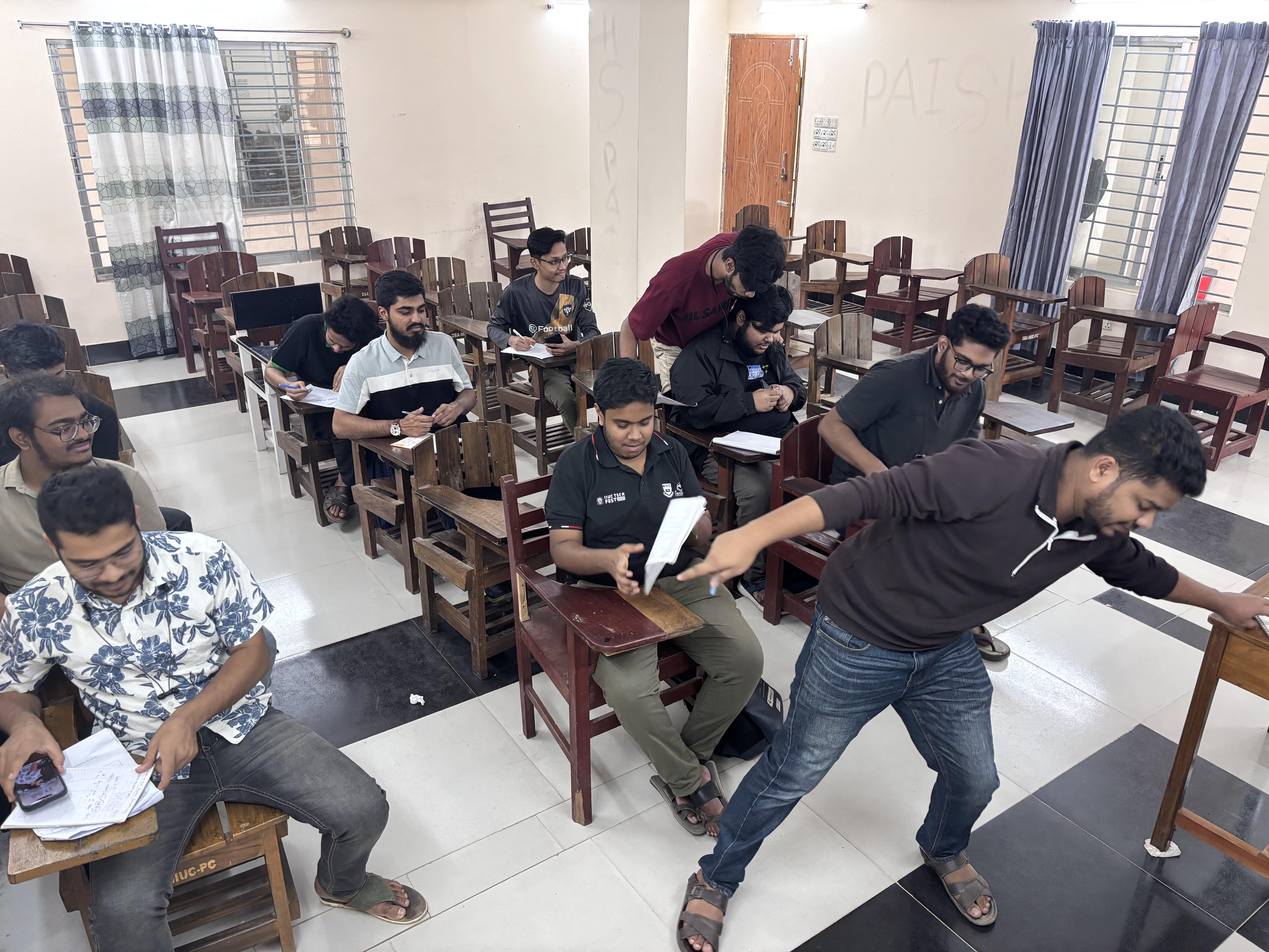copying: (638, 209, 811, 461)
no_cheating: (554, 360, 721, 627), (349, 266, 467, 464), (885, 301, 1015, 476), (0, 370, 148, 487), (263, 290, 385, 411)
suspicious_moving: (720, 406, 1219, 911)
using_phone: (0, 464, 271, 893), (491, 223, 597, 372)
